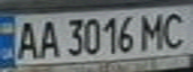0: (81, 15, 103, 55)
1: (100, 14, 121, 54)
3: (63, 16, 84, 57)
6: (115, 12, 139, 53)
A: (9, 18, 42, 61), (33, 17, 60, 60)
C: (157, 9, 193, 50)
M: (136, 10, 172, 51)
